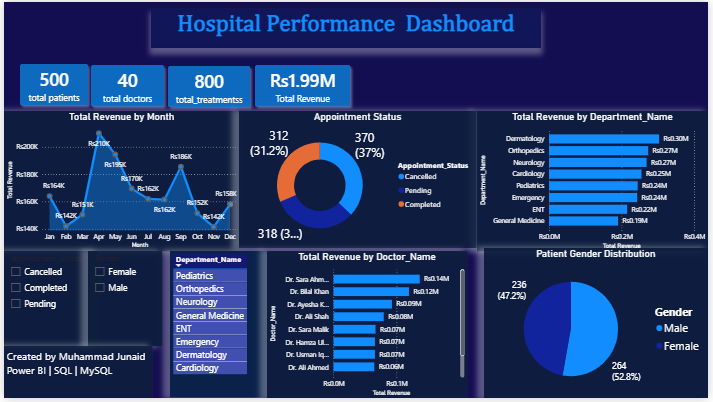

Layout of this report page (visuals, bound fields, positions):
{"tool":"powerbi","page":{"name":"hospital performances dashboard","canvas":[1280,720],"ordinal":0},"visuals":[{"type":"cardVisual","fields":{"Data":["Measures (2).total_patients"]},"box":[0,83.6,182.8,134.6],"z":0},{"type":"cardVisual","fields":{"Data":["Measures (2).total_doctors"]},"box":[129,85,191.3,134.6],"z":1000},{"type":"cardVisual","fields":{"Data":["Measures (2).Total Revenue"]},"box":[427.6,86.2,232.8,134.5],"z":2000},{"type":"cardVisual","fields":{"Data":["Measures (2).total_treatmentss"]},"box":[269.3,86.5,208.3,133.2],"z":3000},{"type":"lineChart","fields":{"Y":["Measures (2).Total Revenue"],"Category":["payments.Month"]},"box":[0,198.4,428,255.1],"z":4000},{"type":"clusteredBarChart","fields":{"Category":["department.Department_Name"],"Y":["Measures (2).Total Revenue"]},"box":[859.9,198.3,420.1,255.2],"z":5000},{"type":"donutChart","title":"Appointment Status","fields":{"Category":["appointments.Appointment_Status"],"Y":["Measures (2).Total Appointments"]},"box":[428,198.3,431.9,249.3],"z":6000},{"type":"pieChart","title":"Patient Gender Distribution","fields":{"Category":["patients.Gender"],"Y":["CountNonNull(patients.Patients_ID)"]},"box":[873.1,447.9,406.8,273.5],"z":7000},{"type":"slicer","fields":{"Values":["appointments.Appointment_Status"]},"box":[0,453.5,171.5,172.9],"z":8000},{"type":"tableEx","fields":{"Values":["department.Department_Name"]},"box":[301.9,453.5,175.7,266.5],"z":9000},{"type":"slicer","fields":{"Values":["patients.Gender"]},"box":[153.1,453.5,134.6,172.9],"z":10000},{"type":"textbox","box":[266.7,11.6,708.7,72.5],"z":11000},{"type":"clusteredBarChart","fields":{"Category":["doctors.Doctor_Name"],"Y":["Measures (2).Total Revenue"]},"box":[478.1,453,364.3,268],"z":12000},{"type":"textbox","box":[0,626.1,269.6,94.2],"z":13000}]}

Visuals, with their boxes in screenshot pixels (x1, y1, x2, y2), scaled from the page's 1280x720 canvas onto the 713x402 screenshot:
cardVisual - Measures (2).total_patients: l=0, t=47, r=102, b=122
cardVisual - Measures (2).total_doctors: l=72, t=47, r=178, b=123
cardVisual - Measures (2).Total Revenue: l=238, t=48, r=368, b=123
cardVisual - Measures (2).total_treatmentss: l=150, t=48, r=266, b=123
lineChart - Measures (2).Total Revenue x payments.Month: l=0, t=111, r=238, b=253
clusteredBarChart - department.Department_Name x Measures (2).Total Revenue: l=479, t=111, r=712, b=253
"Appointment Status" donutChart: l=238, t=111, r=479, b=250
"Patient Gender Distribution" pieChart: l=486, t=250, r=712, b=401
slicer - appointments.Appointment_Status: l=0, t=253, r=96, b=350
tableEx - department.Department_Name: l=168, t=253, r=266, b=401
slicer - patients.Gender: l=85, t=253, r=160, b=350
textbox: l=149, t=6, r=543, b=47
clusteredBarChart - doctors.Doctor_Name x Measures (2).Total Revenue: l=266, t=253, r=469, b=401
textbox: l=0, t=350, r=150, b=401
